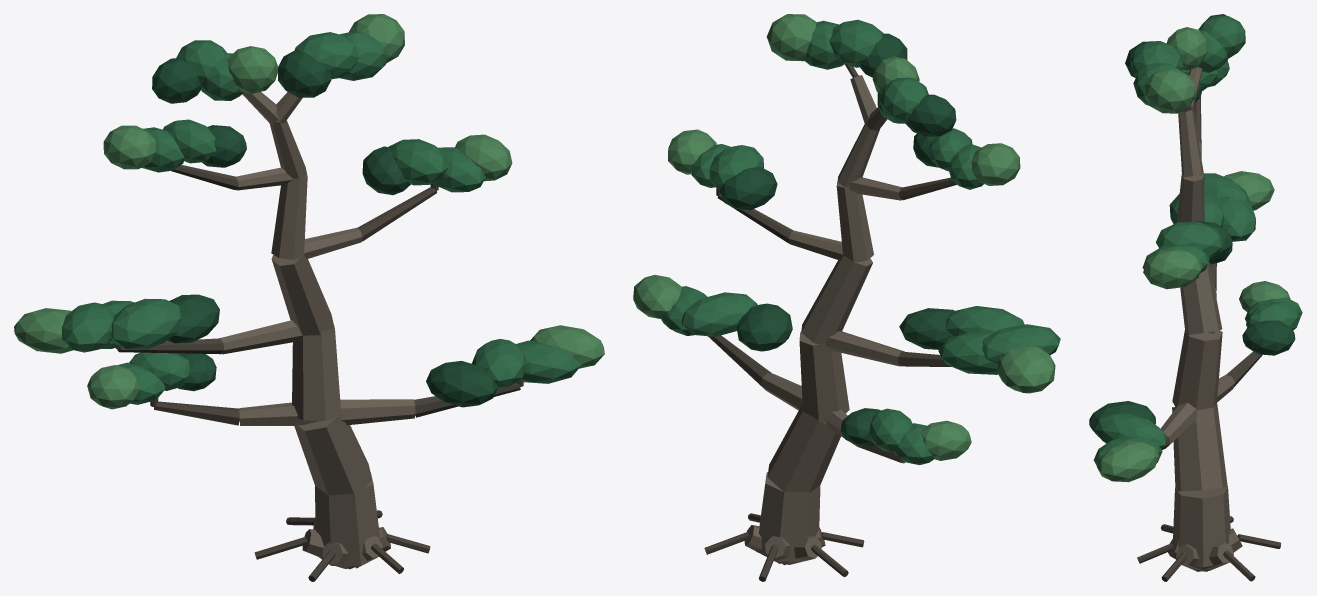
The model's file is pine.glb.
3 views of the same model, side by side, from view 1: azimuth 30°, elevation 25°; view 2: azimuth 150°, elevation 25°; view 3: azimuth 270°, elevation 25° (orthographic). The views are drawn at different scales.
Visible parts, largest first — view 1: n8, n11, n12, n10, n9; view 2: n8, n11, n12, n10, n9; view 3: n8, n11, n12, n10, n9.
Boxes of the visible parts, left/top/right/bottom form: n8: left=220, top=92, right=415, bottom=569; n11: left=62, top=31, right=581, bottom=404; n12: left=14, top=14, right=604, bottom=409; n10: left=152, top=50, right=497, bottom=407; n9: left=115, top=165, right=523, bottom=581; n8: left=744, top=75, right=904, bottom=565; n11: left=661, top=19, right=1060, bottom=465; n12: left=633, top=14, right=1055, bottom=460; n10: left=719, top=33, right=956, bottom=446; n9: left=704, top=64, right=956, bottom=581; n8: left=1160, top=67, right=1242, bottom=571; n11: left=1093, top=16, right=1302, bottom=466; n12: left=1097, top=27, right=1290, bottom=482; n10: left=1089, top=14, right=1295, bottom=436; n9: left=1137, top=96, right=1280, bottom=581.
Bounding box in the file's own units: 5.26 × 5.53 × 2.12.
